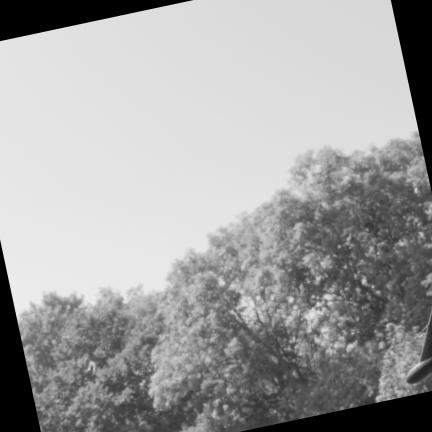Shahed: (406, 306, 432, 384)
